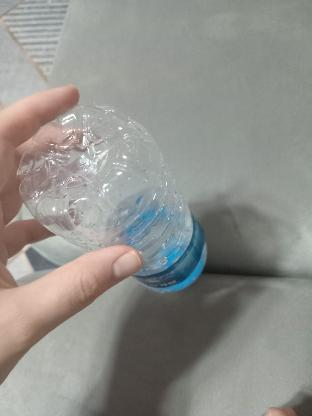Plastic Bottle: (14, 107, 210, 304)
